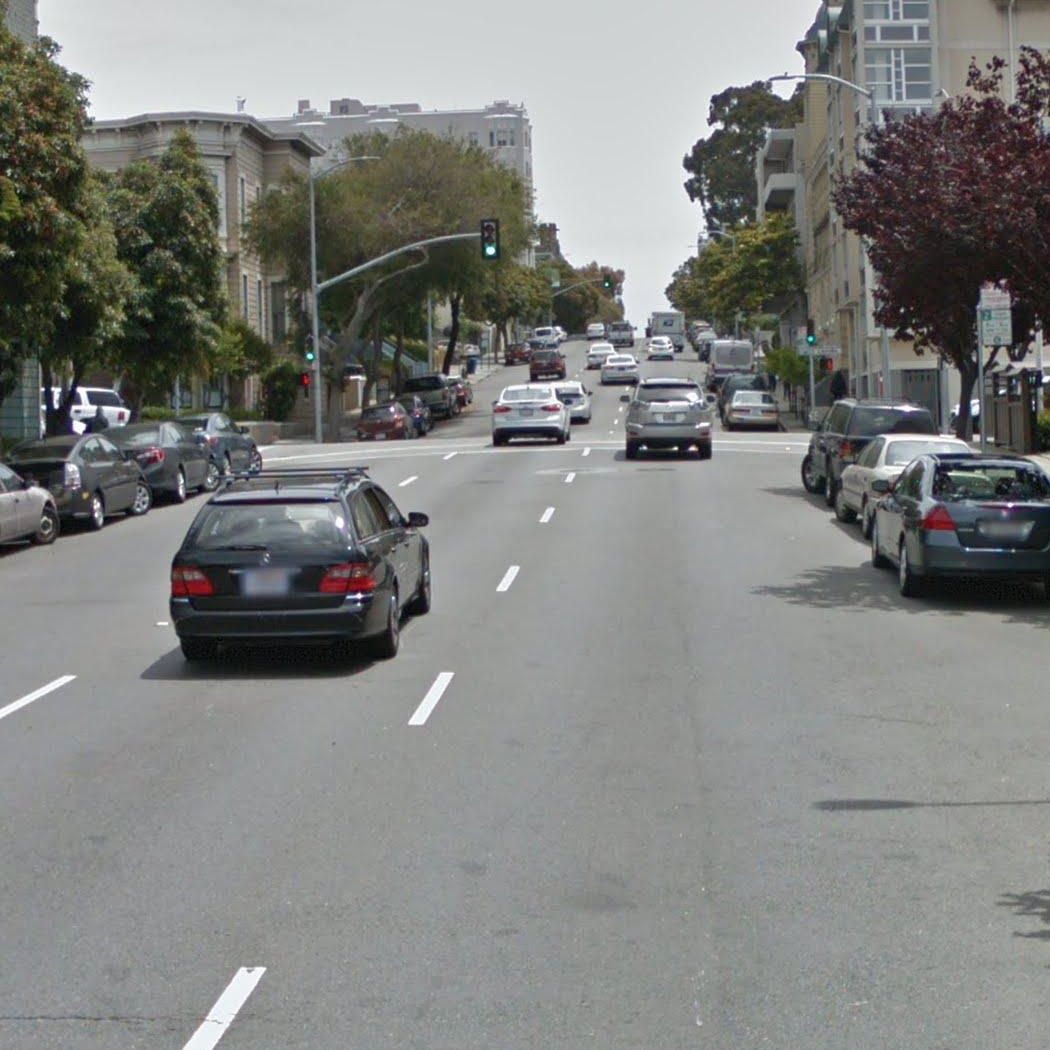2 Hour Parking: (979, 309, 1015, 348)
No Parking: (978, 280, 1012, 309)
